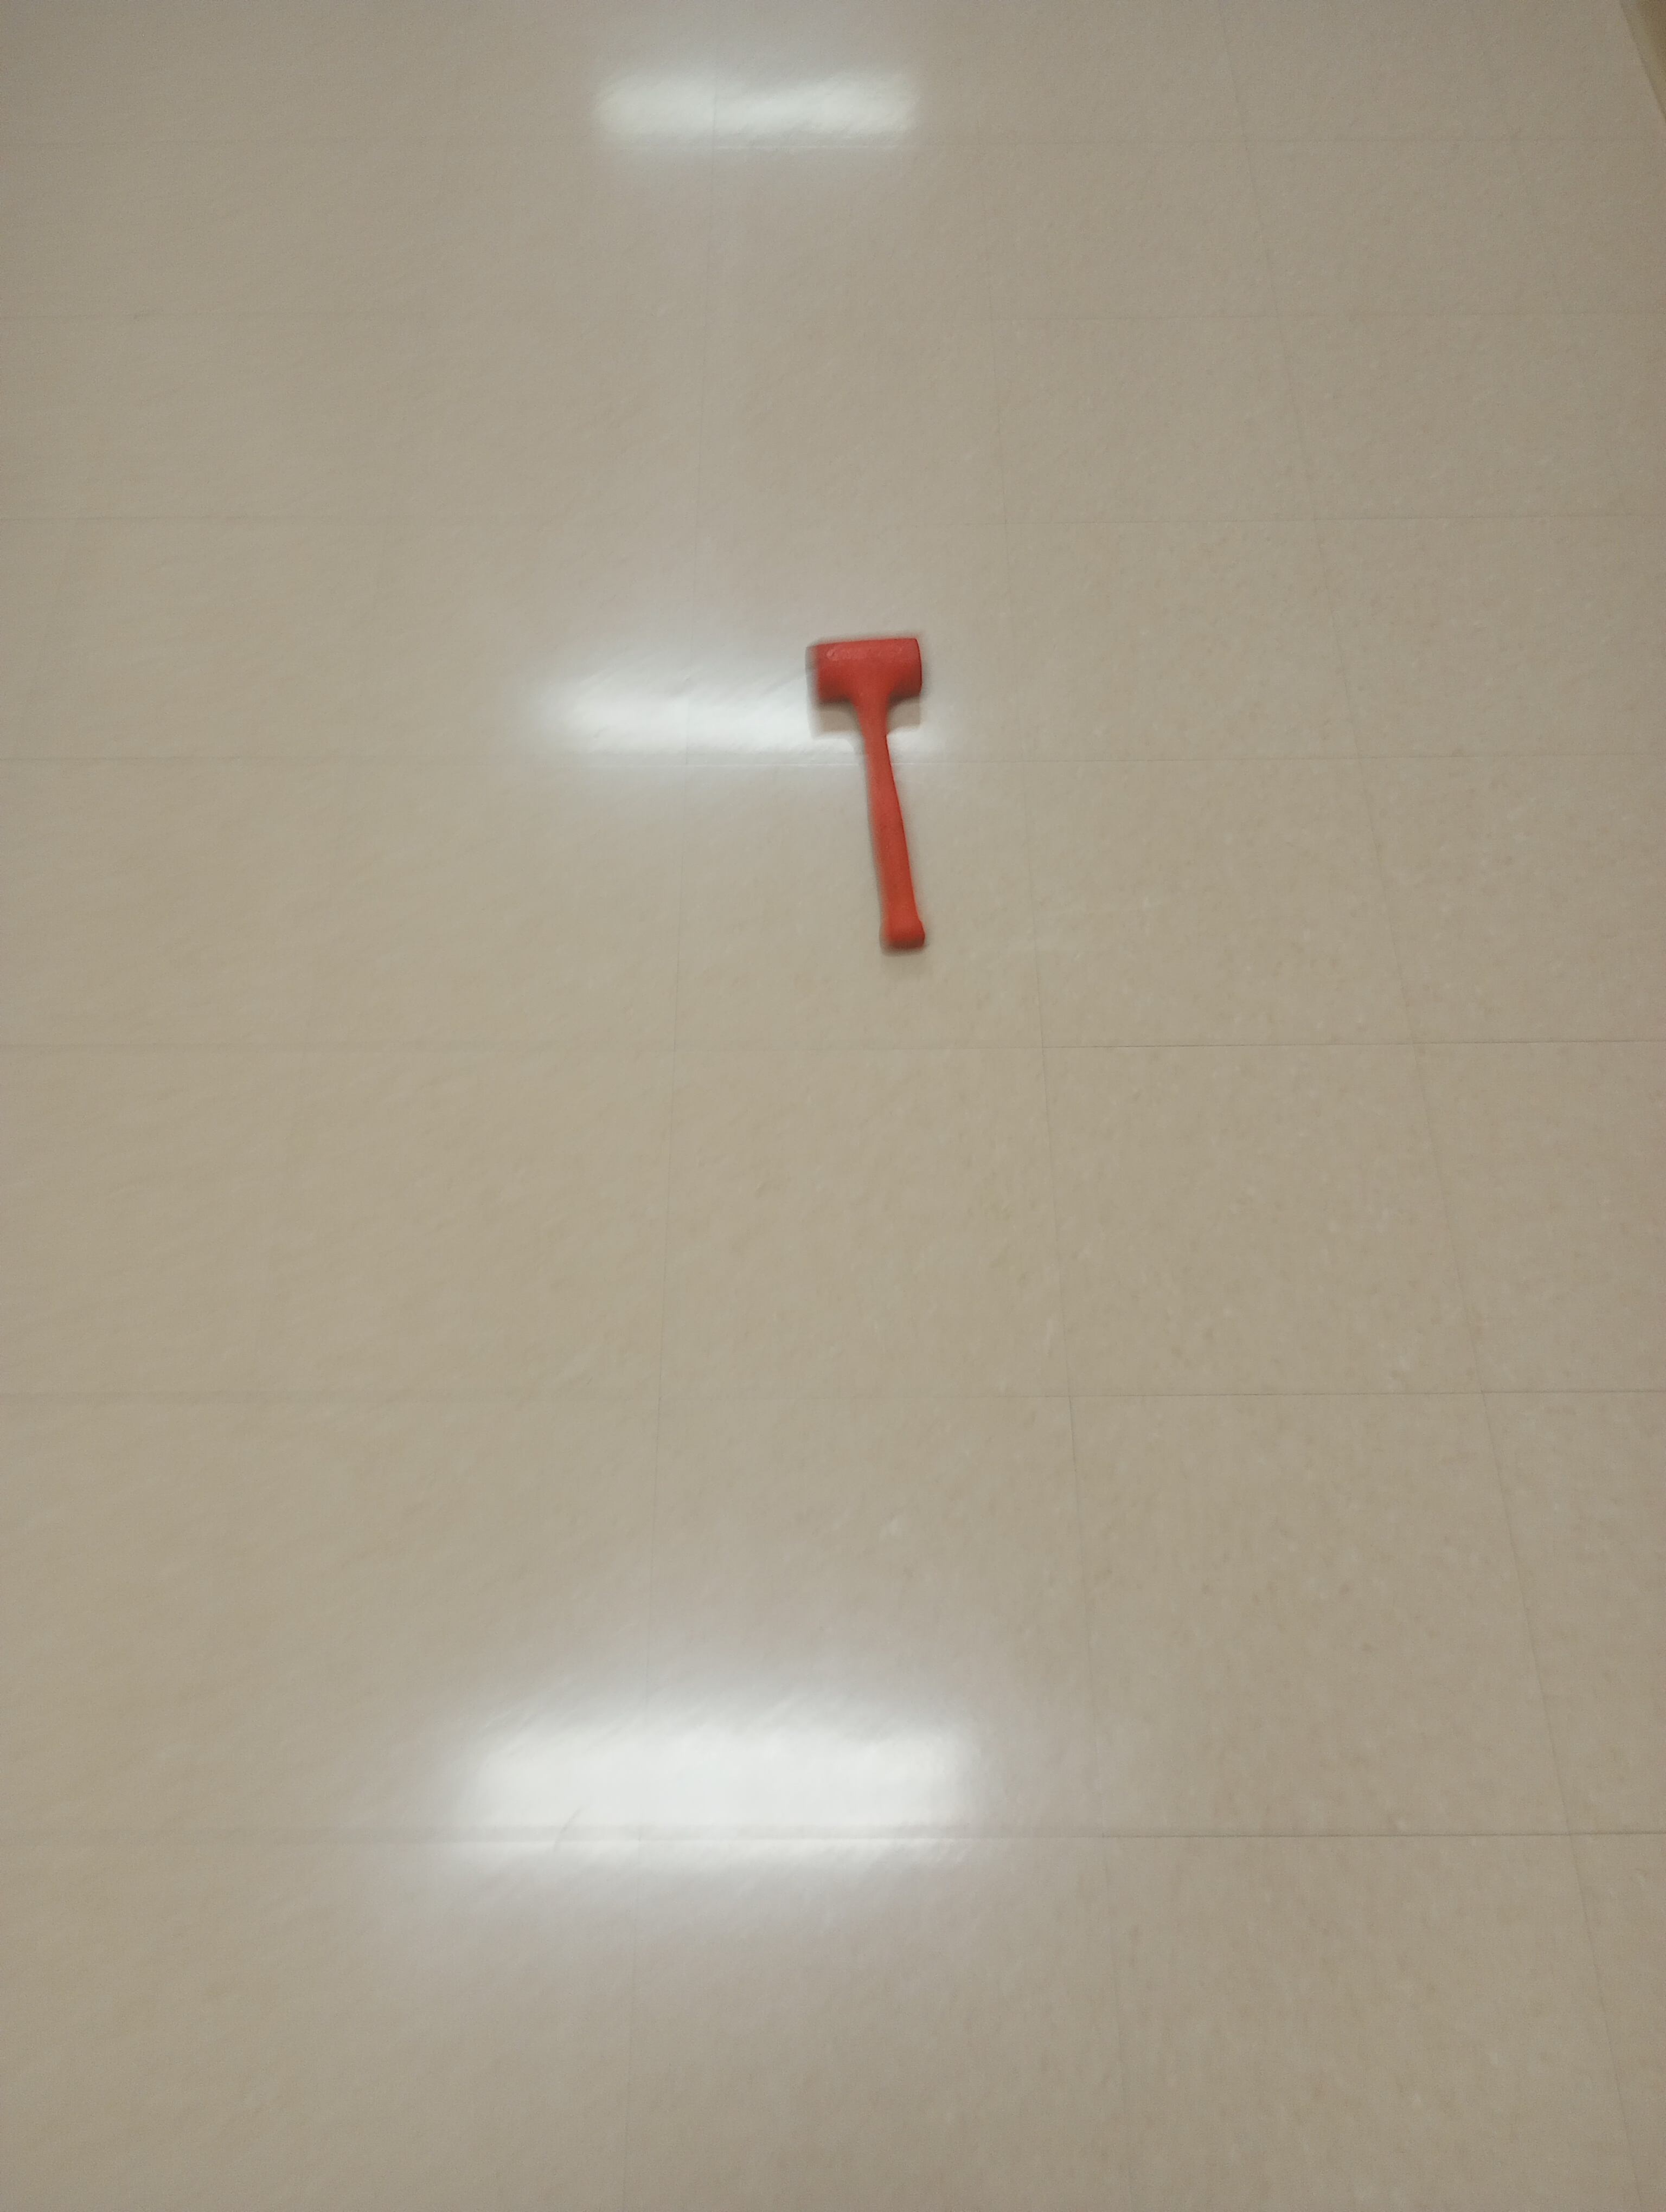bottle: (805, 626, 929, 963)
